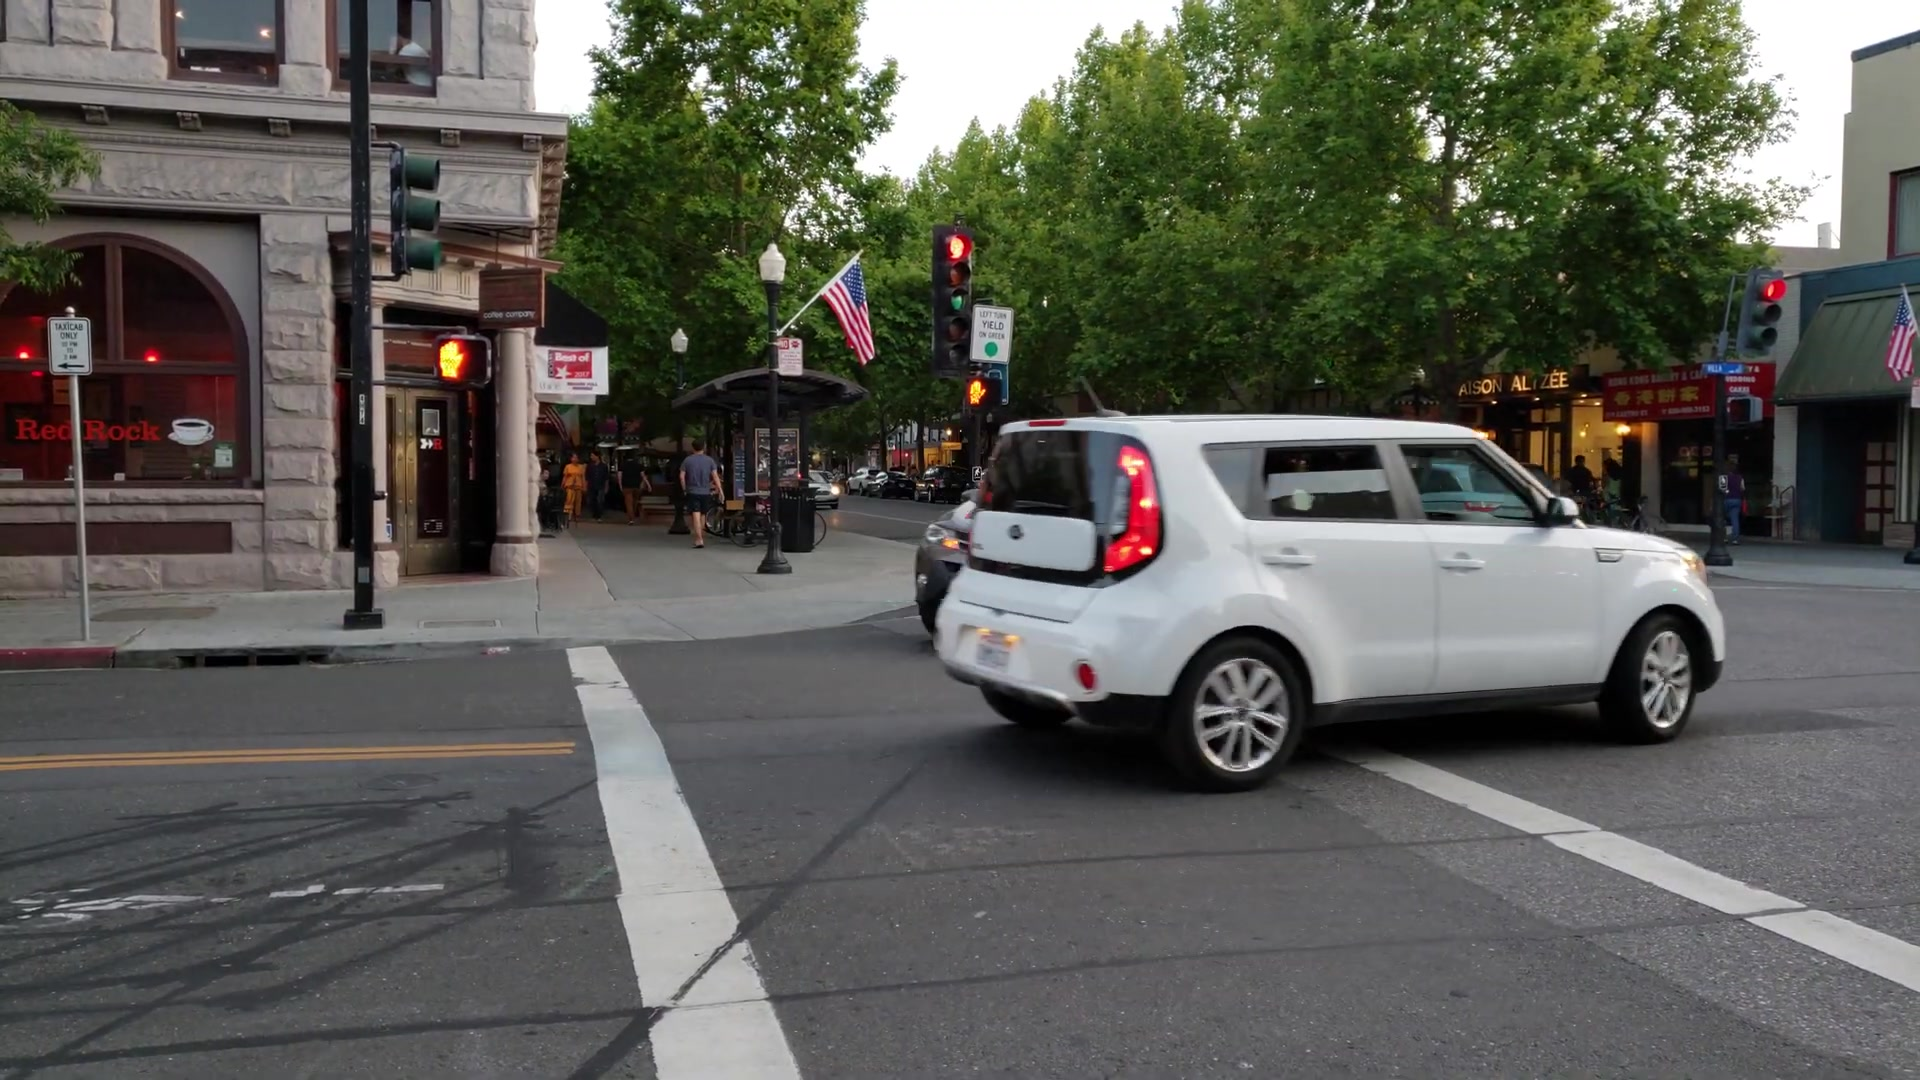vehicle: (934, 419, 1729, 793)
